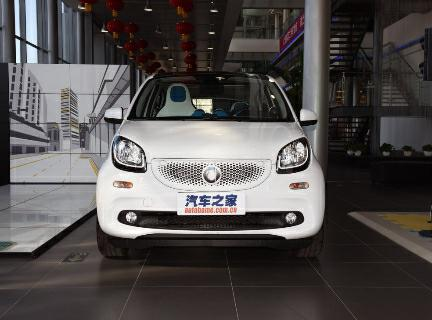smart-forfour: (97, 68, 328, 261)
